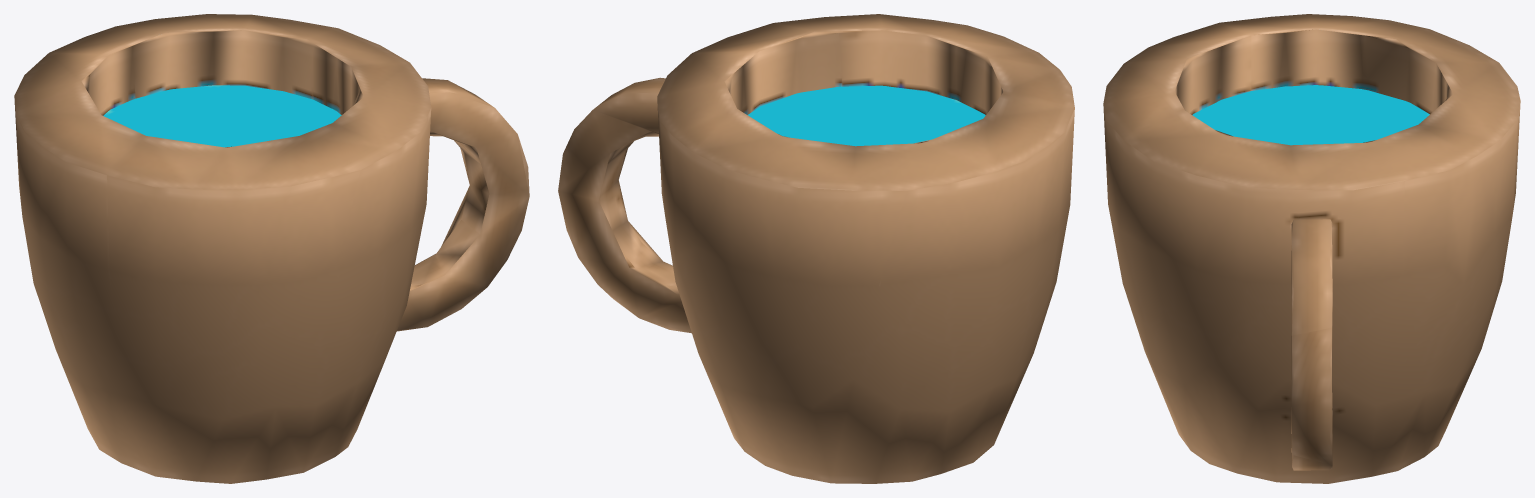
Rendered from tea_LOD0.fbx.
The picture shows the model from 3 angles, left to right: view 1: azimuth 30°, elevation 25°; view 2: azimuth 150°, elevation 25°; view 3: azimuth 270°, elevation 25°; orthographic projection.
Parts seen in each view (by area): view 1: tea_LOD0; view 2: tea_LOD0; view 3: tea_LOD0.
Boxes of the visible parts, x1,y1,x2,y2 form: tea_LOD0: (14,14,529,483); tea_LOD0: (558,14,1074,483); tea_LOD0: (1103,14,1520,483).
Size of the model in its own units: 53.74 by 36.52 by 40.6.
